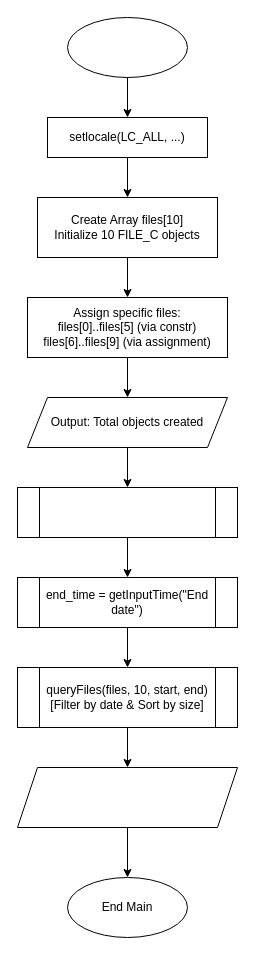
Some shapes in this 255 by 955 pixel diagram are drawn without their labels. Here are the shapes that lost their labels. From the top down, the centre of each, then its label:
pixel 127 47: Start Main
pixel 127 512: start_time = getInputTime("Start date")
pixel 127 797: Output: End execution Output: Remaining objects count
